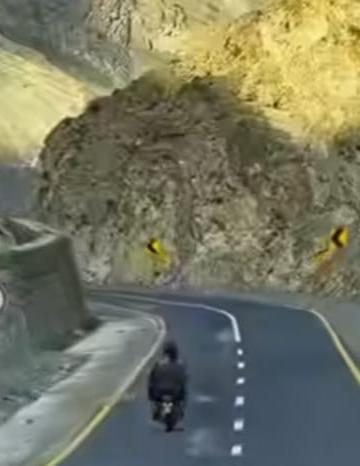left_turn: (83, 265, 307, 347), (328, 225, 350, 250), (146, 237, 160, 256)
